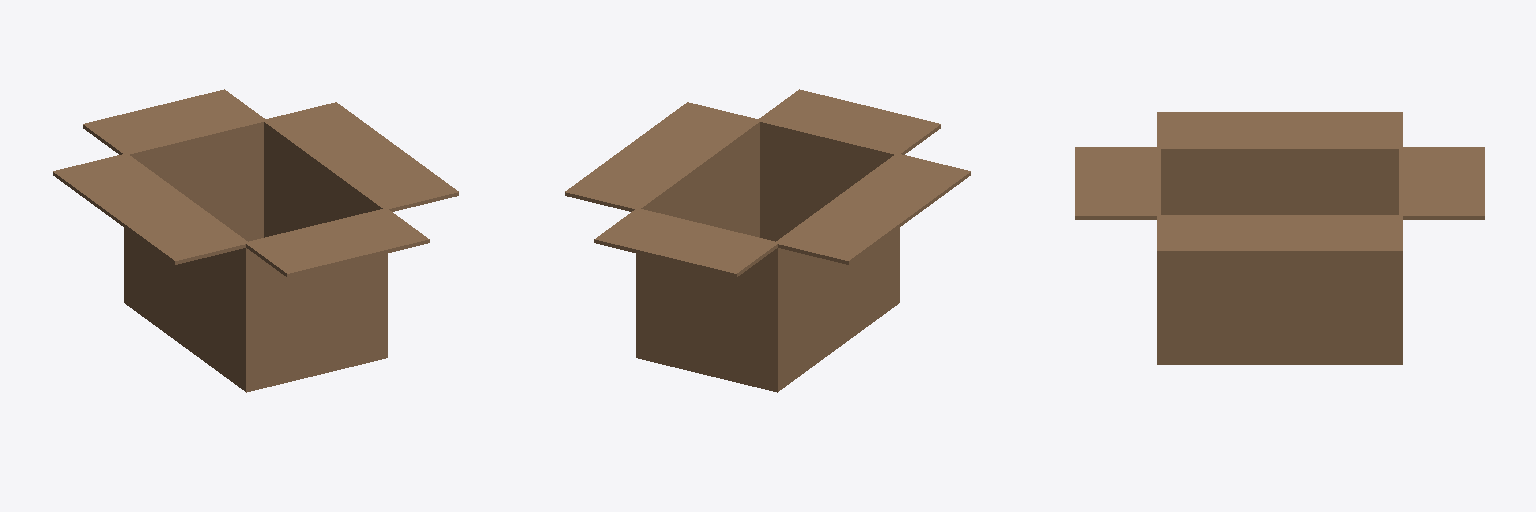
Rendered from Bin.obj.
3 views of the same model, side by side, from view 1: azimuth 30°, elevation 25°; view 2: azimuth 150°, elevation 25°; view 3: azimuth 270°, elevation 25° (orthographic).
Parts seen in each view (by area): view 1: Solid1; view 2: Solid1; view 3: Solid1.
Part boxes in pixels (left/top/right/bottom): Solid1: left=53, top=89, right=458, bottom=392; Solid1: left=565, top=89, right=970, bottom=392; Solid1: left=1075, top=112, right=1484, bottom=364.
Size of the model in its own units: 40 by 20 by 50.